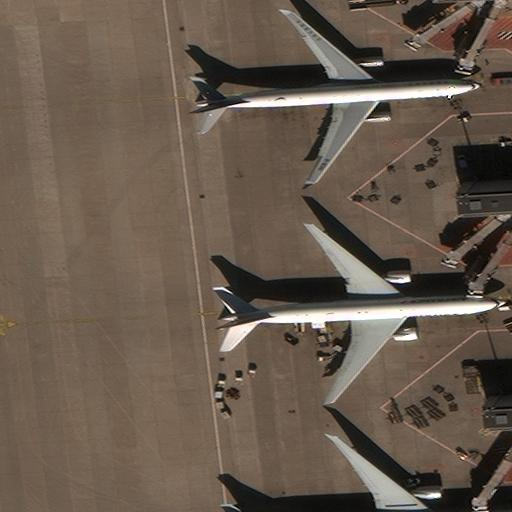Large Civil Transport: (214, 223, 505, 402), (191, 9, 480, 185), (256, 436, 511, 511)
